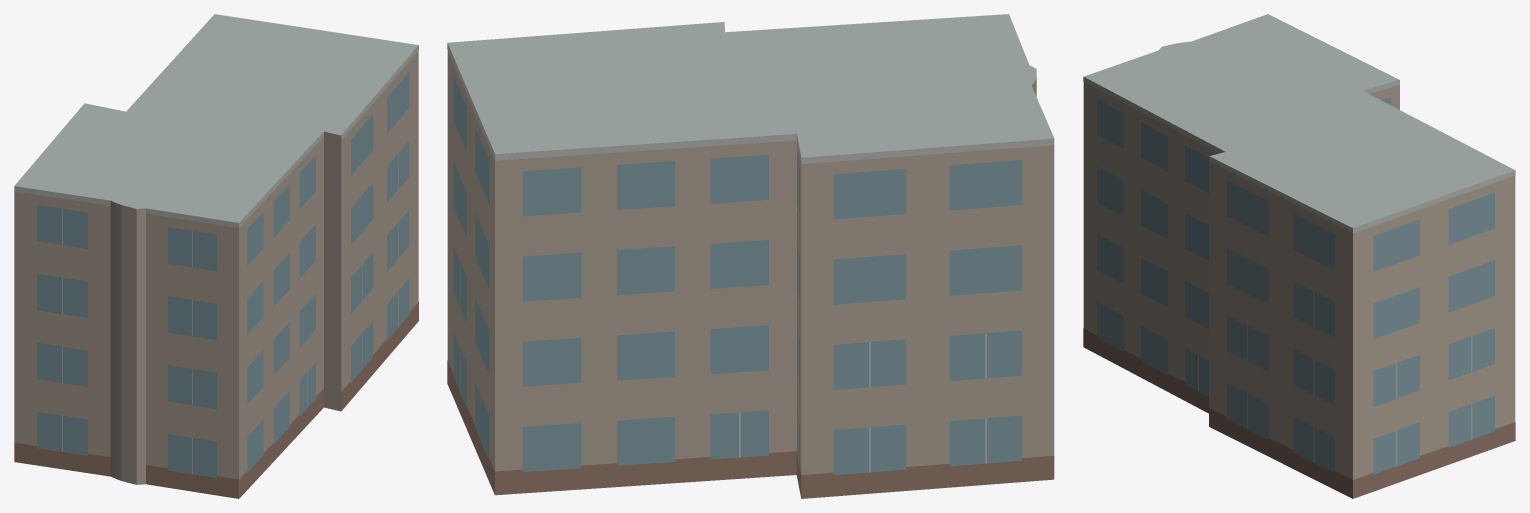
Rendered from survey-upis-32655898.glb.
3 views of the same model, side by side, from view 1: azimuth 30°, elevation 25°; view 2: azimuth 150°, elevation 25°; view 3: azimuth 270°, elevation 25° (orthographic). The views are drawn at different scales.
Parts seen in each view (by area): view 1: survey-upis-32655898.tmp; view 2: survey-upis-32655898.tmp; view 3: survey-upis-32655898.tmp.
Boxes of the visible parts, <box> form: survey-upis-32655898.tmp: <box>14,14,418,498</box>; survey-upis-32655898.tmp: <box>447,14,1054,498</box>; survey-upis-32655898.tmp: <box>1083,14,1515,498</box>.
Bounding box in the file's own units: 21.75 × 12.8 × 18.52.
